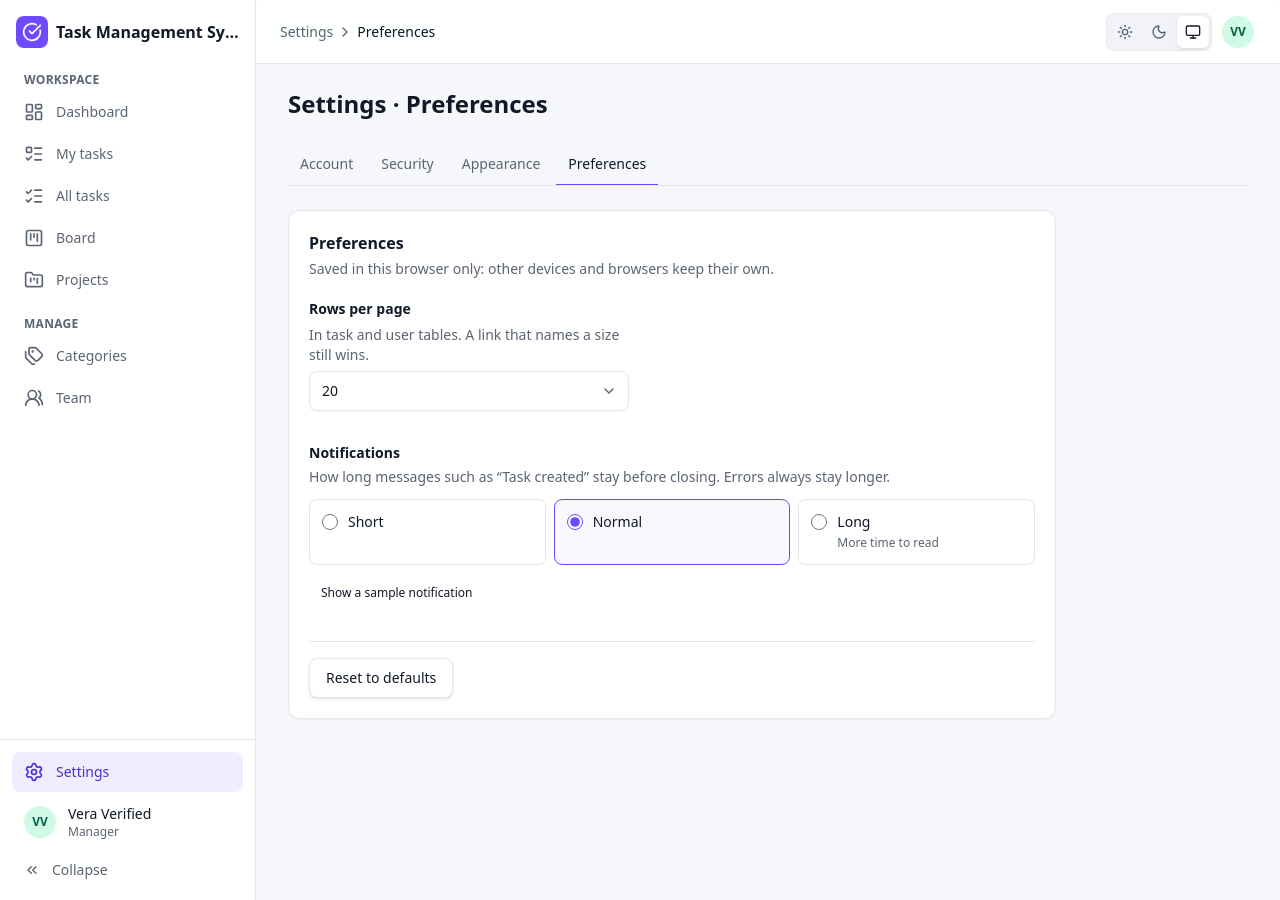
Test case: Settings › Preferences › chooses how long notifications stay, with a sample
Click the radio button labelled "Long More time to read". click: click(819, 522)
box: 811,514 -> 827,530
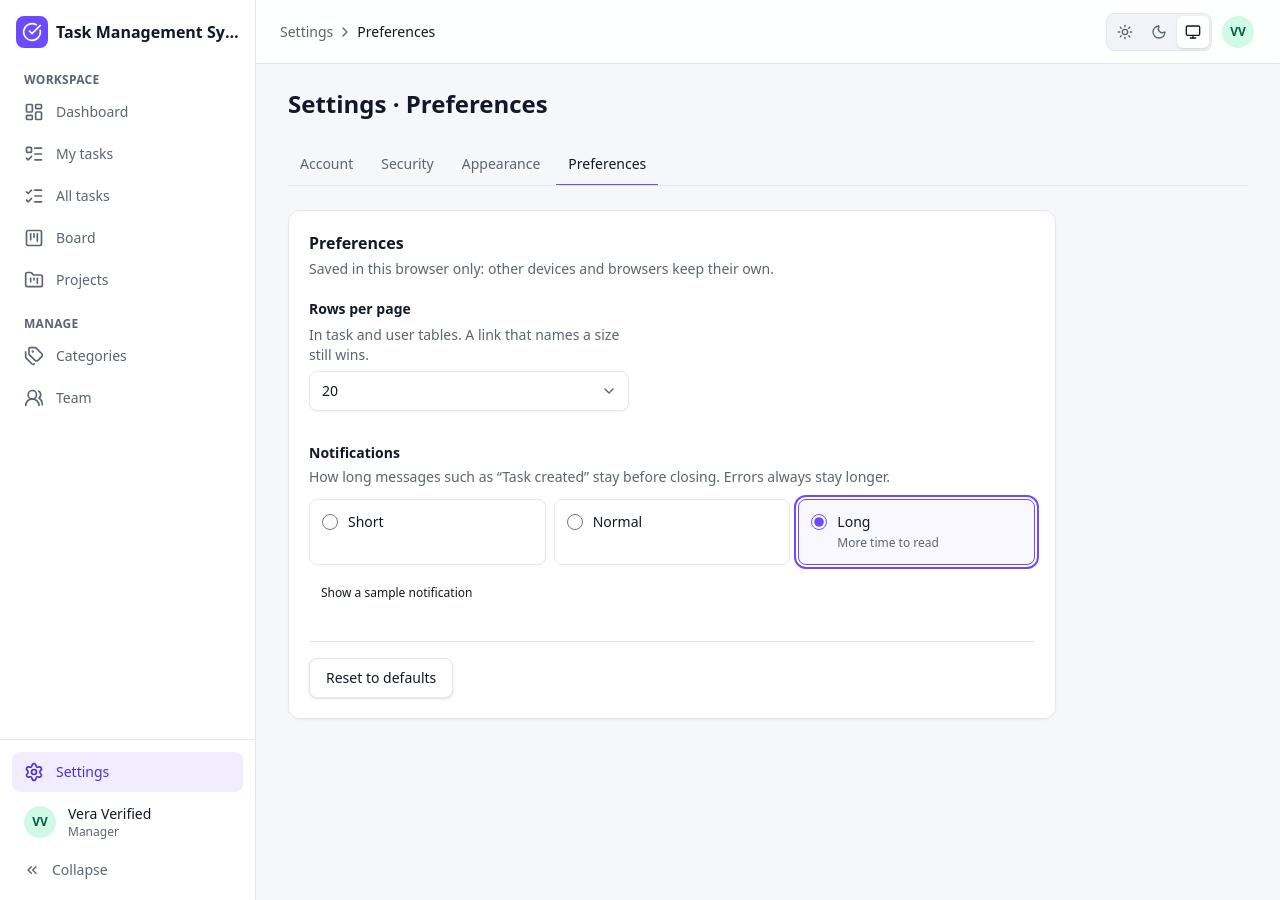
Click the button "Show a sample notification". click: click(397, 593)
box: 309,577 -> 484,609
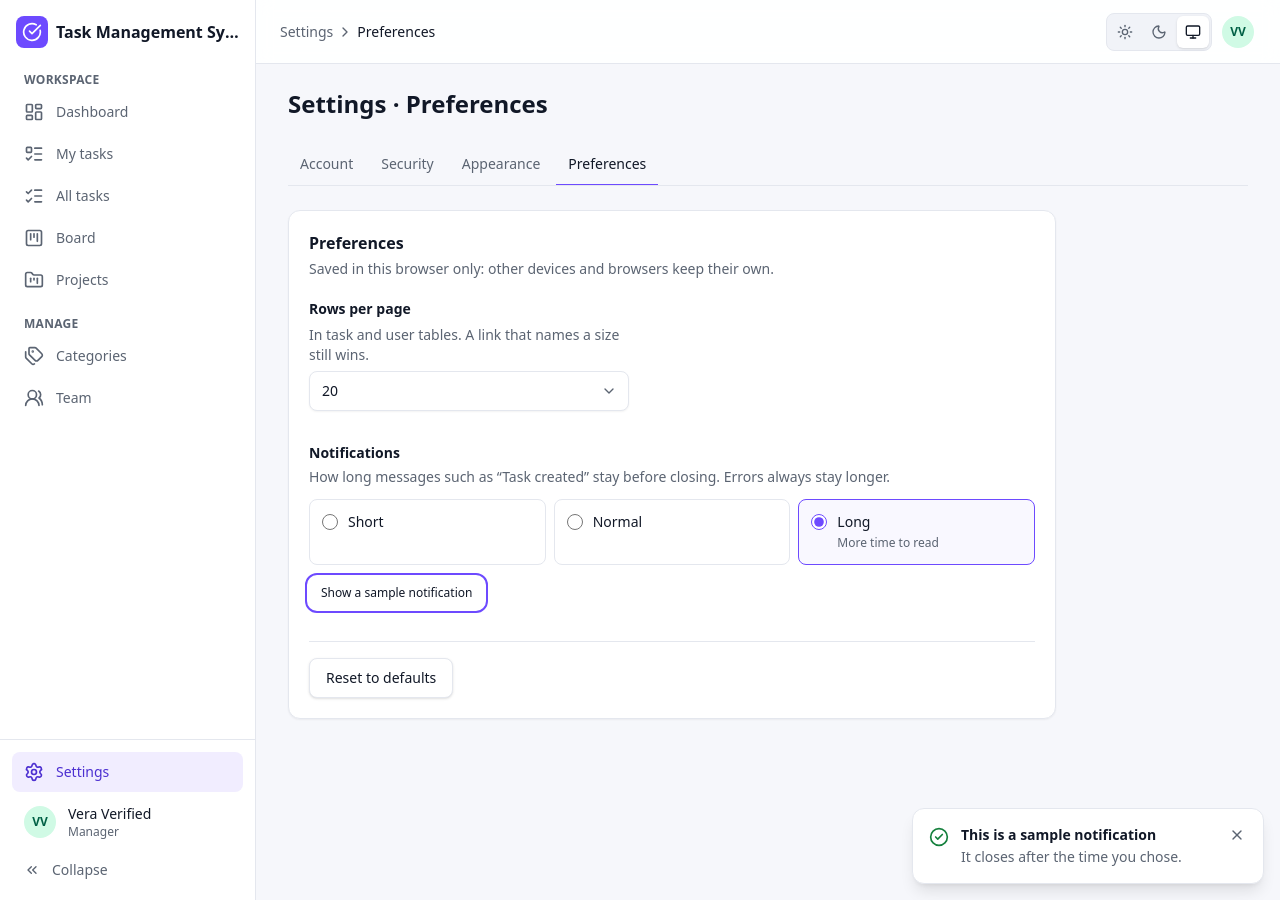
Expected: the text "This is a sample notification" is shown, 961,825 -> 1156,844
